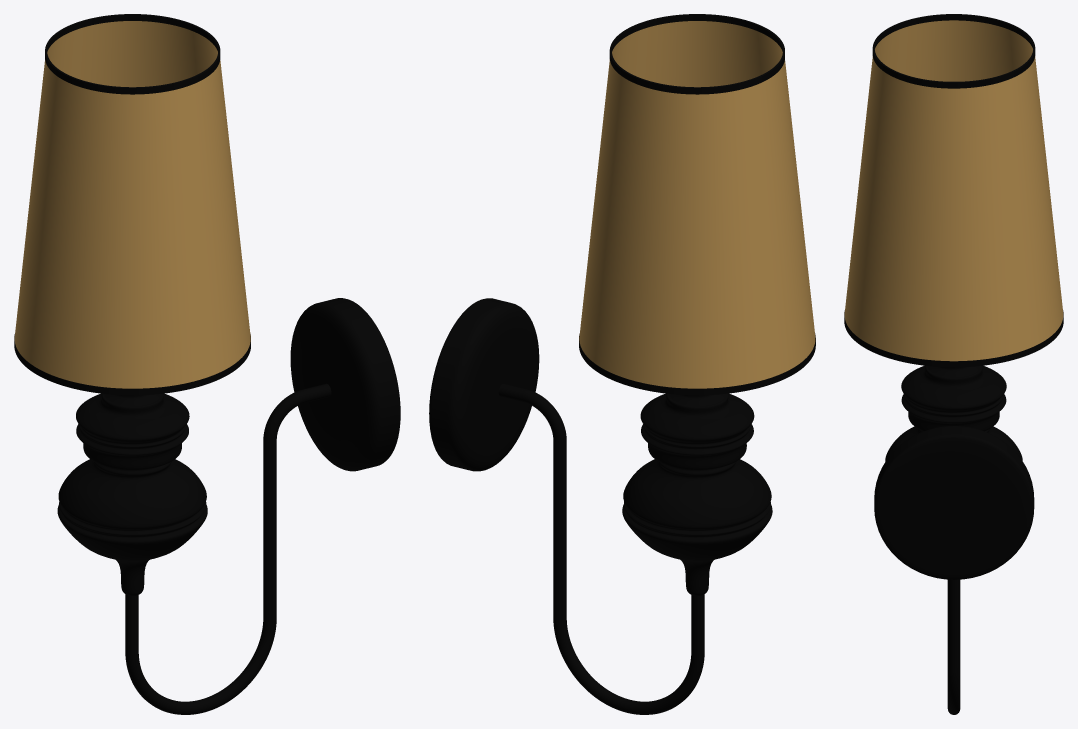
File: josephine mini.FBX
3 renders of one model, left to right at view 1: azimuth 30°, elevation 25°; view 2: azimuth 150°, elevation 25°; view 3: azimuth 270°, elevation 25°, orthographic. The views are drawn at different scales.
Parts seen in each view (by area): view 1: Line002, Cylinder001, Group001, Shape003, Shape002, Shape001; view 2: Line002, Cylinder001, Group001, Shape003, Shape002, Shape001; view 3: Line002, Group001, Cylinder001, Shape002, Shape003, Shape001.
Boxes of the visible parts, left/top/right/bottom form: Line002: left=14, top=21, right=250, bottom=388; Cylinder001: left=57, top=393, right=207, bottom=595; Group001: left=290, top=298, right=400, bottom=471; Shape003: left=125, top=383, right=331, bottom=714; Shape002: left=45, top=14, right=220, bottom=94; Shape001: left=14, top=334, right=250, bottom=395; Line002: left=579, top=21, right=815, bottom=388; Cylinder001: left=622, top=393, right=772, bottom=595; Group001: left=429, top=298, right=539, bottom=471; Shape003: left=498, top=383, right=704, bottom=714; Shape002: left=609, top=14, right=784, bottom=94; Shape001: left=579, top=333, right=815, bottom=395; Line002: left=844, top=20, right=1063, bottom=361; Group001: left=874, top=426, right=1034, bottom=579; Cylinder001: left=885, top=365, right=1022, bottom=461; Shape002: left=872, top=14, right=1035, bottom=88; Shape003: left=947, top=579, right=960, bottom=714; Shape001: left=844, top=310, right=1063, bottom=367.
Bounding box in the file's own units: 28.31 × 55.65 × 17.62.
